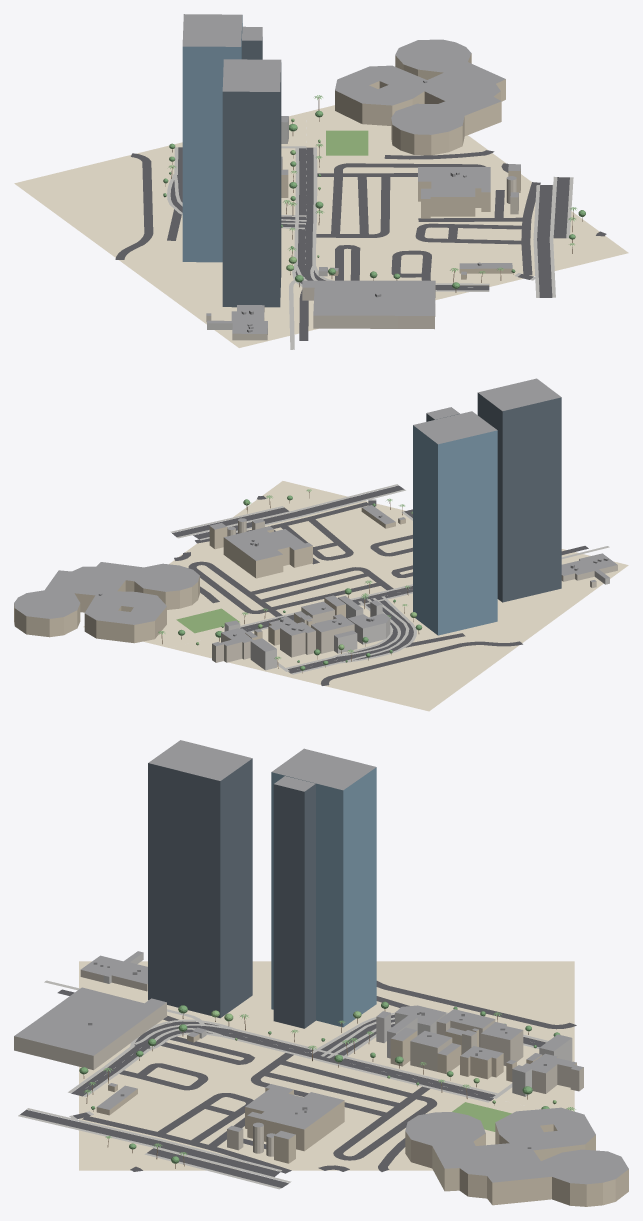
Rendered from tile_-4_-4.glb.
The picture shows the model from 3 angles, top to bottom: view 1: azimuth 30°, elevation 25°; view 2: azimuth 150°, elevation 25°; view 3: azimuth 270°, elevation 25°; orthographic projection. The views are drawn at different scales.
Visible parts, largest first — view 1: nature_ground, buildings_roof, roads_asphalt, buildings_glass_dark, buildings_glass_blue, buildings_sandstone, roads_sidewalk, buildings_concrete_warm, nature_grass, nature_foliage_a; view 2: nature_ground, buildings_glass_blue, buildings_roof, buildings_glass_dark, roads_asphalt, buildings_sandstone, buildings_concrete_warm, roads_sidewalk, buildings_concrete_light, nature_grass; view 3: nature_ground, buildings_glass_dark, buildings_roof, roads_asphalt, buildings_glass_blue, buildings_sandstone, buildings_concrete_warm, roads_sidewalk, buildings_concrete_light, nature_foliage_a, nature_grass.
Part boxes in pixels (bbox=[...]): nature_ground: bbox=[14, 105, 628, 347]; buildings_roof: bbox=[182, 14, 520, 333]; roads_asphalt: bbox=[115, 147, 606, 340]; buildings_glass_dark: bbox=[222, 37, 281, 307]; buildings_glass_blue: bbox=[182, 15, 242, 262]; buildings_sandstone: bbox=[281, 53, 520, 279]; roads_sidewalk: bbox=[167, 146, 573, 349]; buildings_concrete_warm: bbox=[206, 159, 518, 340]; nature_grass: bbox=[326, 130, 368, 155]; nature_foliage_a: bbox=[163, 110, 585, 288]; nature_ground: bbox=[83, 481, 628, 711]; buildings_glass_blue: bbox=[413, 425, 497, 635]; buildings_roof: bbox=[14, 378, 617, 651]; buildings_glass_dark: bbox=[426, 393, 561, 602]; roads_asphalt: bbox=[172, 485, 588, 685]; buildings_sandstone: bbox=[14, 508, 405, 645]; buildings_concrete_warm: bbox=[212, 521, 617, 662]; roads_sidewalk: bbox=[170, 484, 609, 674]; buildings_concrete_light: bbox=[224, 559, 609, 670]; nature_grass: bbox=[176, 608, 239, 633]; nature_ground: bbox=[79, 961, 574, 1170]; buildings_glass_dark: bbox=[148, 758, 315, 1028]; buildings_roof: bbox=[14, 740, 628, 1184]; roads_asphalt: bbox=[20, 981, 576, 1187]; buildings_glass_blue: bbox=[271, 767, 376, 1027]; buildings_sandstone: bbox=[96, 1030, 628, 1206]; buildings_concrete_warm: bbox=[14, 970, 583, 1156]; roads_sidewalk: bbox=[18, 980, 548, 1189]; buildings_concrete_light: bbox=[103, 953, 572, 1096]; nature_foliage_a: bbox=[79, 1001, 560, 1163]; nature_grass: bbox=[452, 1102, 511, 1131].
Size of the model in its own units: 297 by 132 by 310.
